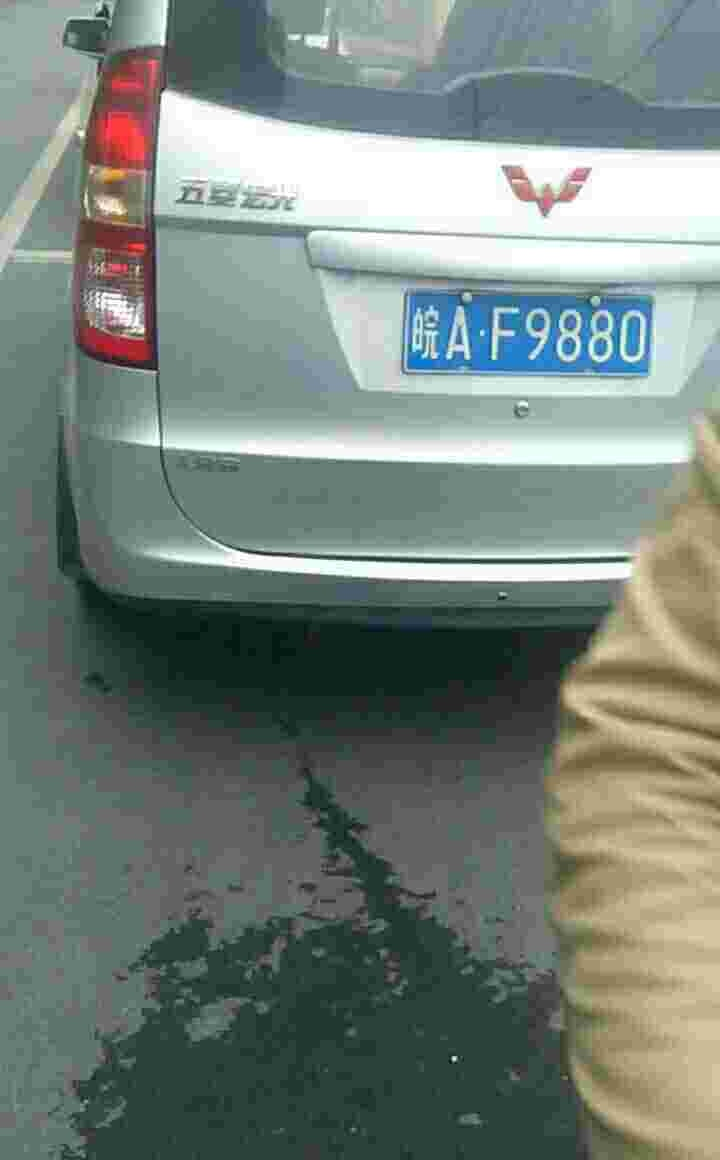car: (398, 280, 665, 379)
